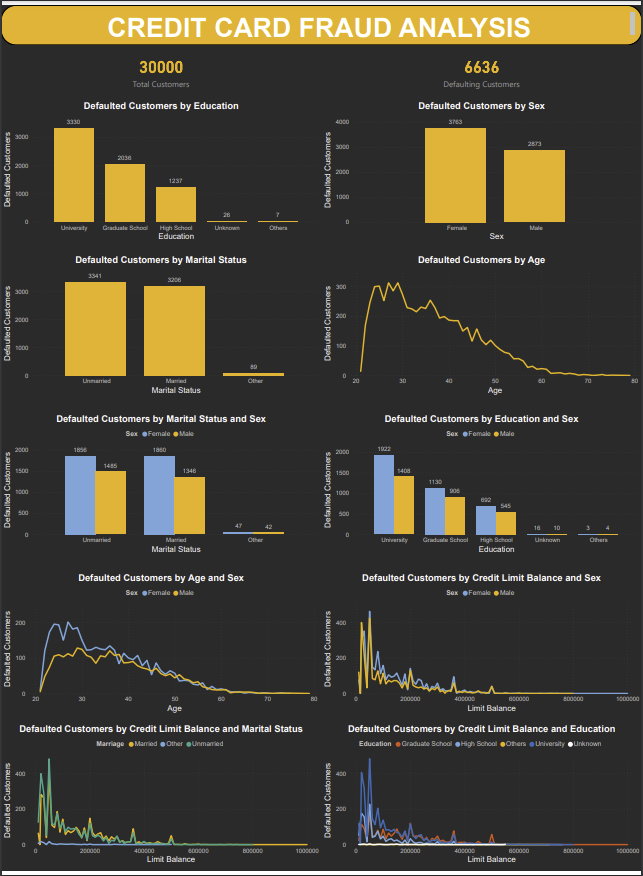

The dashboard page shown, as its layout file describes it:
{"tool":"powerbi","page":{"name":"Page 1","canvas":[1280,1730],"ordinal":0},"visuals":[{"type":"textbox","box":[0,0,1280,79.6],"z":0},{"type":"advanceCardE03760C5AB684758B56AA29F9E6C257B","fields":{"mainMeasure":["Sum(UCI_Credit_Card_Default.default.payment.next.month)"]},"box":[640,80,640,110],"z":1000},{"type":"advanceCardE03760C5AB684758B56AA29F9E6C257B","fields":{"mainMeasure":["CountNonNull(UCI_Credit_Card_Default.default.payment.next.month)"]},"box":[0,80,640,110],"z":2000},{"type":"clusteredColumnChart","fields":{"Category":["UCI_Credit_Card_Default.EDUCATION"],"Y":["Sum(UCI_Credit_Card_Default.default.payment.next.month)"]},"box":[0,190.6,640.4,285.8],"z":3000},{"type":"clusteredColumnChart","title":"Defaulted Customers by Sex","fields":{"Y":["Sum(UCI_Credit_Card_Default.default.payment.next.month)"],"Category":["UCI_Credit_Card_Default.SEX"]},"box":[640,190,640,286.7],"z":4000},{"type":"clusteredColumnChart","title":"Defaulted Customers by Marital Status","fields":{"Y":["Sum(UCI_Credit_Card_Default.default.payment.next.month)"],"Category":["UCI_Credit_Card_Default.MARRIAGE"]},"box":[0,498.3,640,285],"z":5000},{"type":"lineChart","title":"Defaulted Customers by Age","fields":{"Category":["UCI_Credit_Card_Default.AGE"],"Y":["Sum(UCI_Credit_Card_Default.default.payment.next.month)"]},"box":[640,498.3,640,285],"z":6000},{"type":"clusteredColumnChart","title":"Defaulted Customers by Marital Status and Sex","fields":{"Y":["Sum(UCI_Credit_Card_Default.default.payment.next.month)"],"Series":["UCI_Credit_Card_Default.SEX"],"Category":["UCI_Credit_Card_Default.MARRIAGE"]},"box":[0,816.7,640,285],"z":7000},{"type":"clusteredColumnChart","title":"Defaulted Customers by Education and Sex","fields":{"Y":["Sum(UCI_Credit_Card_Default.default.payment.next.month)"],"Category":["UCI_Credit_Card_Default.EDUCATION"],"Series":["UCI_Credit_Card_Default.SEX"]},"box":[640,816.7,640,285],"z":8000},{"type":"lineChart","title":"Defaulted Customers by Age and Sex","fields":{"Category":["UCI_Credit_Card_Default.AGE"],"Y":["Sum(UCI_Credit_Card_Default.default.payment.next.month)"],"Series":["UCI_Credit_Card_Default.SEX"]},"box":[0,1134,640,285],"z":9000},{"type":"lineChart","title":"Defaulted Customers by Credit Limit Balance and Sex","fields":{"Y":["Sum(UCI_Credit_Card_Default.default.payment.next.month)"],"Category":["UCI_Credit_Card_Default.LIMIT_BAL"],"Series":["UCI_Credit_Card_Default.SEX"]},"box":[640,1134,640,285],"z":10000},{"type":"lineChart","title":"Defaulted Customers by Credit Limit Balance and Education","fields":{"Y":["Sum(UCI_Credit_Card_Default.default.payment.next.month)"],"Category":["UCI_Credit_Card_Default.LIMIT_BAL"],"Series":["UCI_Credit_Card_Default.EDUCATION"]},"box":[640,1435,640,285],"z":11000},{"type":"lineChart","title":"Defaulted Customers by Credit Limit Balance and Marital Status","fields":{"Series":["UCI_Credit_Card_Default.MARRIAGE"],"Y":["Sum(UCI_Credit_Card_Default.default.payment.next.month)"],"Category":["UCI_Credit_Card_Default.LIMIT_BAL"]},"box":[0,1435,640,285],"z":12000}]}

Visuals, with their boxes in screenshot pixels (x1, y1, x2, y2), scaled from the page's 1280x1730 canvas onto the 643x876 screenshot:
textbox: {"x1": 0, "y1": 0, "x2": 642, "y2": 40}
advanceCardE03760C5AB684758B56AA29F9E6C257B - Sum(UCI_Credit_Card_Default.default.payment.next.month): {"x1": 322, "y1": 41, "x2": 642, "y2": 96}
advanceCardE03760C5AB684758B56AA29F9E6C257B - CountNonNull(UCI_Credit_Card_Default.default.payment.next.month): {"x1": 0, "y1": 41, "x2": 322, "y2": 96}
clusteredColumnChart - UCI_Credit_Card_Default.EDUCATION x Sum(UCI_Credit_Card_Default.default.payment.next.month): {"x1": 0, "y1": 97, "x2": 322, "y2": 241}
"Defaulted Customers by Sex" clusteredColumnChart: {"x1": 322, "y1": 96, "x2": 642, "y2": 241}
"Defaulted Customers by Marital Status" clusteredColumnChart: {"x1": 0, "y1": 252, "x2": 322, "y2": 397}
"Defaulted Customers by Age" lineChart: {"x1": 322, "y1": 252, "x2": 642, "y2": 397}
"Defaulted Customers by Marital Status and Sex" clusteredColumnChart: {"x1": 0, "y1": 414, "x2": 322, "y2": 558}
"Defaulted Customers by Education and Sex" clusteredColumnChart: {"x1": 322, "y1": 414, "x2": 642, "y2": 558}
"Defaulted Customers by Age and Sex" lineChart: {"x1": 0, "y1": 574, "x2": 322, "y2": 719}
"Defaulted Customers by Credit Limit Balance and Sex" lineChart: {"x1": 322, "y1": 574, "x2": 642, "y2": 719}
"Defaulted Customers by Credit Limit Balance and Education" lineChart: {"x1": 322, "y1": 727, "x2": 642, "y2": 871}
"Defaulted Customers by Credit Limit Balance and Marital Status" lineChart: {"x1": 0, "y1": 727, "x2": 322, "y2": 871}
